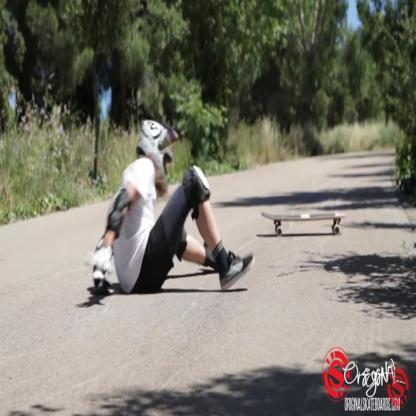Fall_Down: (85, 125, 259, 300)
